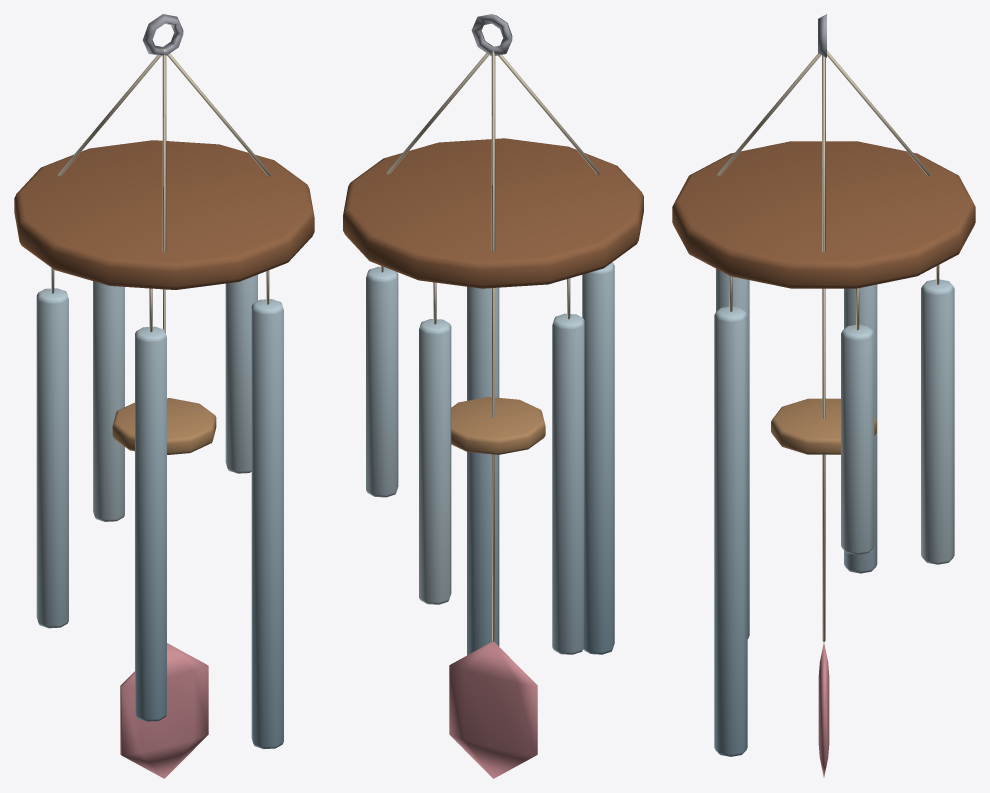
File: wind_chime.glb
3 renders of one model, left to right at view 1: azimuth 30°, elevation 25°; view 2: azimuth 150°, elevation 25°; view 3: azimuth 270°, elevation 25°, orthographic.
Parts seen in each view (by area): view 1: wind_chime, chime_5, chime_4, chime_3, clapper, chime_2, chime_1; view 2: wind_chime, clapper, chime_4, chime_3, chime_2, chime_5, chime_1; view 3: wind_chime, chime_5, chime_2, chime_1, clapper, chime_3, chime_4.
Boxes of the visible parts, left/top/right/bottom form: wind_chime: left=14, top=14, right=314, bottom=289; chime_5: left=251, top=270, right=283, bottom=748; chime_4: left=135, top=288, right=166, bottom=721; chime_3: left=36, top=268, right=68, bottom=628; clapper: left=112, top=289, right=216, bottom=778; chime_2: left=93, top=281, right=124, bottom=521; chime_1: left=225, top=274, right=257, bottom=473; wind_chime: left=343, top=14, right=643, bottom=288; clapper: left=449, top=288, right=545, bottom=778; chime_4: left=582, top=262, right=614, bottom=654; chime_3: left=552, top=278, right=584, bottom=654; chime_2: left=419, top=282, right=451, bottom=604; chime_5: left=467, top=286, right=499, bottom=655; chime_1: left=366, top=266, right=398, bottom=497; wind_chime: left=672, top=14, right=975, bottom=288; chime_5: left=714, top=276, right=747, bottom=756; chime_2: left=921, top=265, right=954, bottom=564; chime_1: left=841, top=288, right=874, bottom=554; clapper: left=771, top=288, right=876, bottom=777; chime_3: left=844, top=284, right=877, bottom=573; chime_4: left=716, top=268, right=749, bottom=638.
Bounding box in the file's own units: 0.195 × 0.5555 × 0.2.
